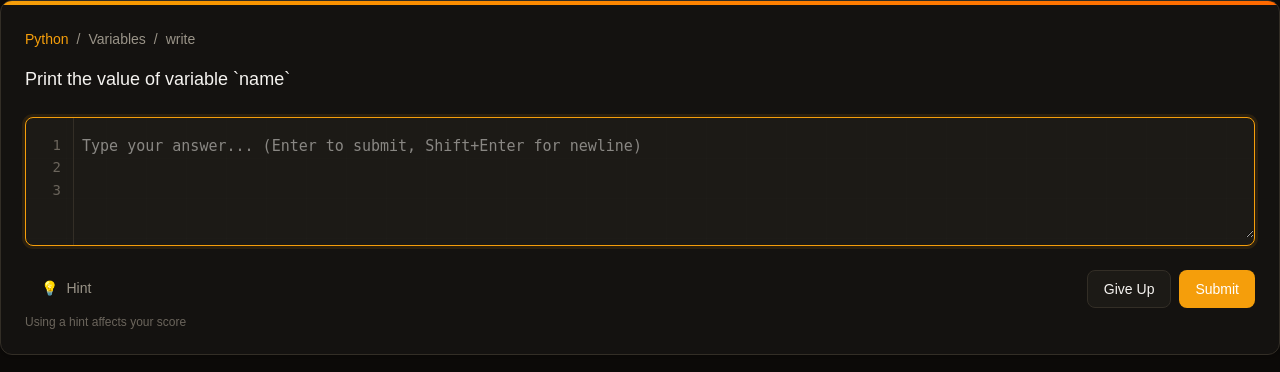
Test: ExerciseCard › give up flow › transitions to feedback phase on give up
The image size is (1280, 372).
What coordinates should you click on to do the following:
click the button "Give Up"
I would click on:
 (1129, 289)
Its box is [1087, 270, 1171, 308].
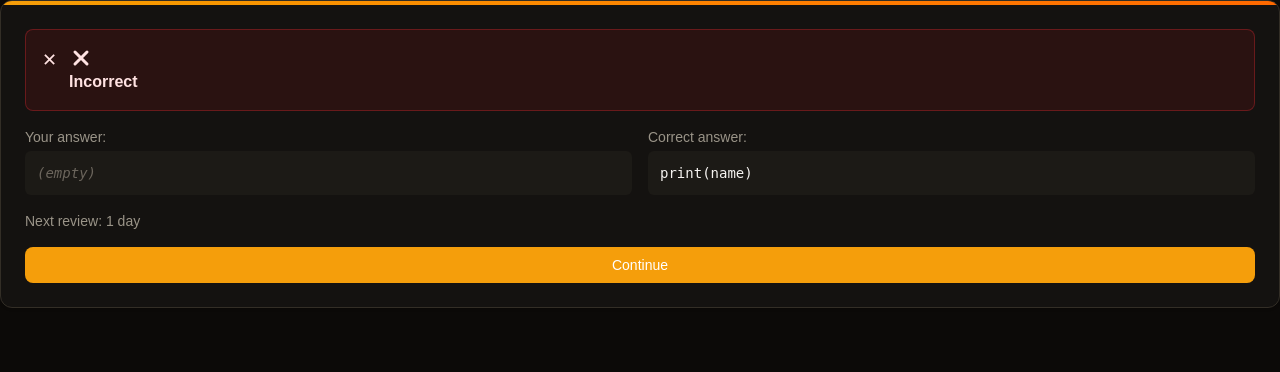
expect the text "Incorrect" is shown: met, box [69, 73, 138, 90]
